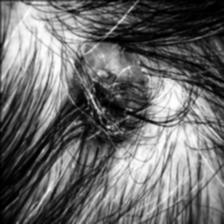Potentially Malignant Skin Tumors: (71, 25, 149, 138)
